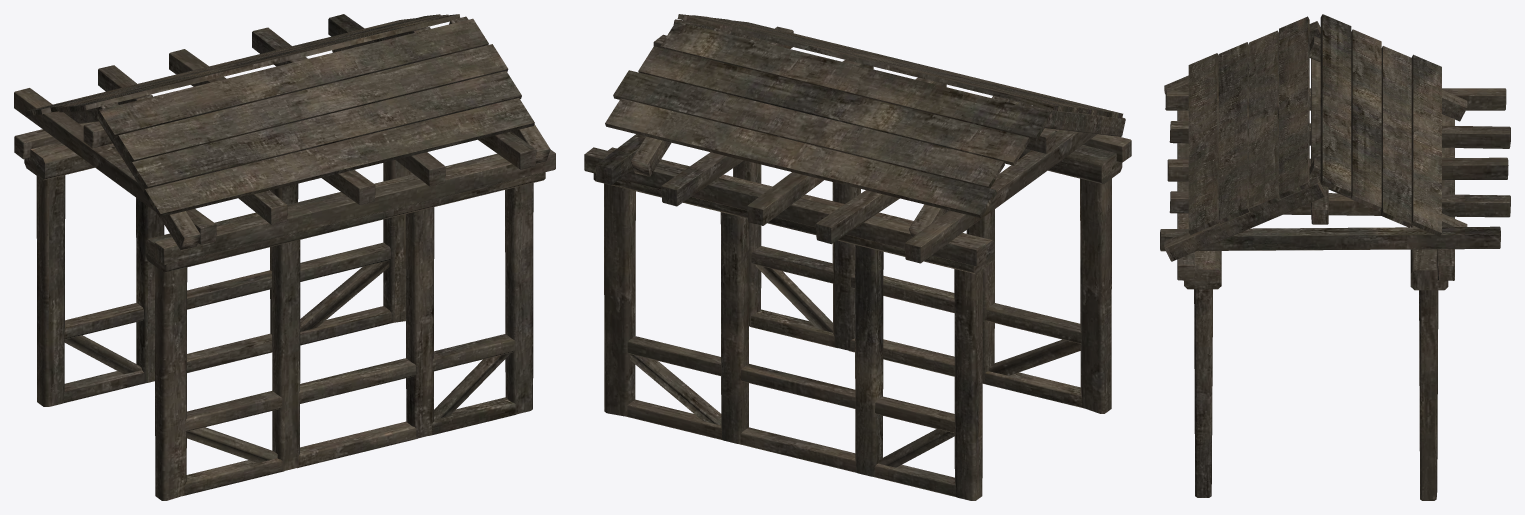
File: SHO_Center_C-transformed.glb
3 views of the same model, side by side, from view 1: azimuth 30°, elevation 25°; view 2: azimuth 150°, elevation 25°; view 3: azimuth 270°, elevation 25° (orthographic). The views are drawn at different scales.
Visible parts, largest first — view 1: default; view 2: default; view 3: default.
Part boxes in pixels (<box>): default: <box>14,14,555,500</box>; default: <box>584,14,1131,500</box>; default: <box>1160,14,1510,500</box>.
Bounding box in the file's own units: 5.07 × 4.26 × 4.27.
1 material, 1 textured.
